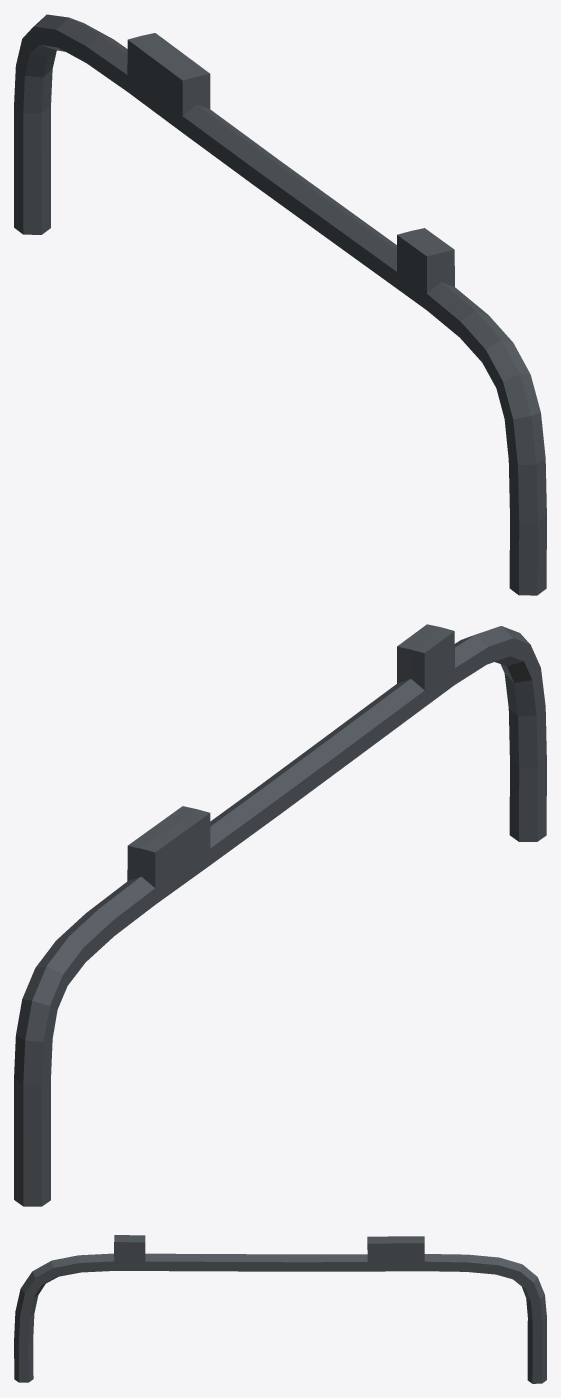
Rendered from Personal_Vehicle_03_Grill_Blue.fbx.
3 views of the same model, one above another, from view 1: azimuth 30°, elevation 25°; view 2: azimuth 150°, elevation 25°; view 3: azimuth 270°, elevation 25° (orthographic). The views are drawn at different scales.
Parts seen in each view (by area): view 1: Personal_Vehicle_03_Grill_Blue; view 2: Personal_Vehicle_03_Grill_Blue; view 3: Personal_Vehicle_03_Grill_Blue.
Part boxes in pixels (left/top/right/bottom): Personal_Vehicle_03_Grill_Blue: left=14, top=14, right=546, bottom=595; Personal_Vehicle_03_Grill_Blue: left=14, top=624, right=546, bottom=1206; Personal_Vehicle_03_Grill_Blue: left=14, top=1235, right=546, bottom=1383.
Bounding box in the file's own units: 2.72 × 25.69 × 87.36.
1 material, 1 textured.
